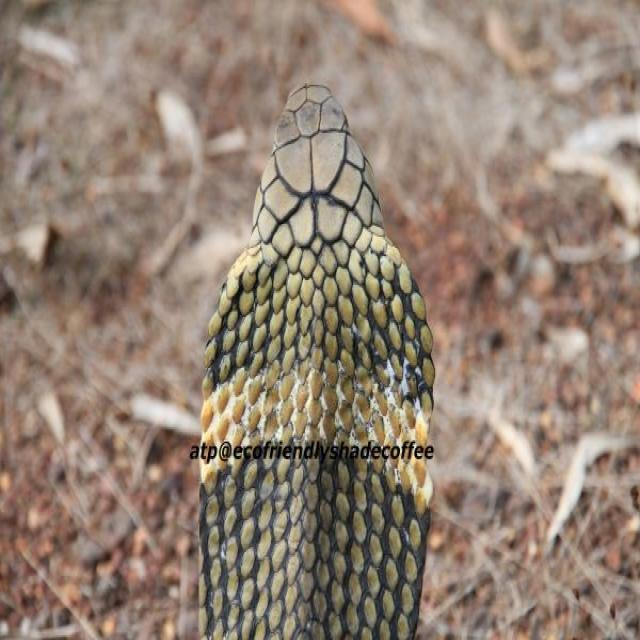Snake: (195, 80, 436, 638)
